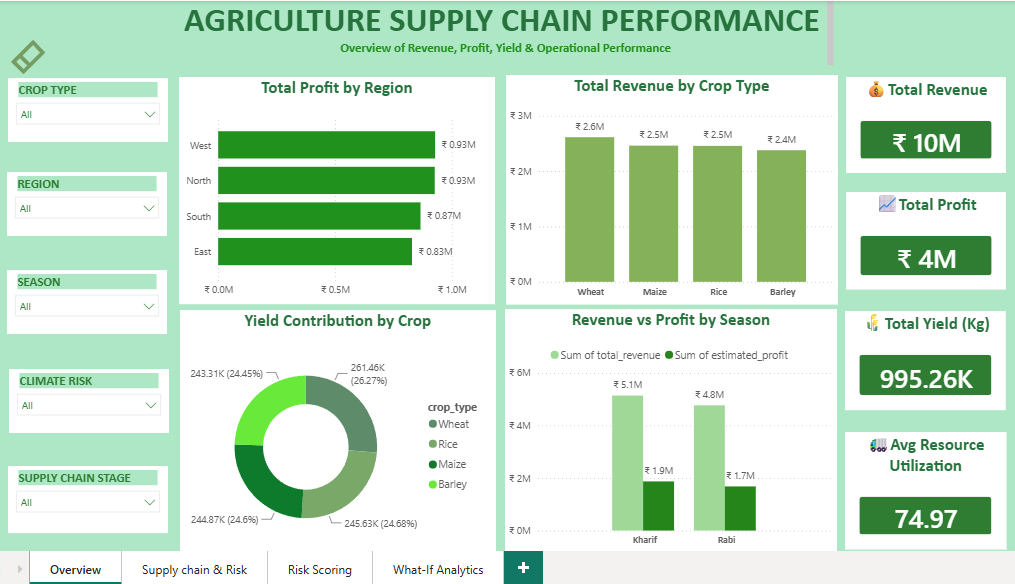

This screenshot's page, from the dashboard's own definition file:
{"tool":"powerbi","page":{"name":"Overview","canvas":[1280,720],"ordinal":0},"visuals":[{"type":"cardVisual","title":"💰Total Revenue","fields":{"Data":["Sum(agri_supplychain_cleaned.total_revenue)"]},"box":[1064.2,103.7,200,120],"z":0},{"type":"cardVisual","title":"📈Total Profit","fields":{"Data":["Sum(agri_supplychain_cleaned.estimated_profit)"]},"box":[1064.2,247.7,200.2,122.4],"z":1000},{"type":"slicer","fields":{"Values":["agri_supplychain_cleaned.crop_type"]},"box":[16.5,104.6,200,80],"z":2000},{"type":"slicer","fields":{"Values":["agri_supplychain_cleaned.region"]},"box":[15.1,223,200,80],"z":3000},{"type":"slicer","fields":{"Values":["agri_supplychain_cleaned.season"]},"box":[14.7,344.5,200,80],"z":4000},{"type":"slicer","fields":{"Values":["agri_supplychain_cleaned.climate_risk_level"]},"box":[17,468.7,200,80],"z":5000},{"type":"cardVisual","title":"🌾Total Yield (Kg)","fields":{"Data":["Sum(agri_supplychain_cleaned.yield_quantity_kg)"]},"box":[1062.5,396.2,201.2,123.8],"z":6000},{"type":"clusteredColumnChart","title":"Total Revenue by Crop Type","fields":{"Category":["agri_supplychain_cleaned.crop_type"],"Y":["Sum(agri_supplychain_cleaned.total_revenue)"]},"box":[638.8,100.8,414.7,286.6],"z":7000},{"type":"clusteredBarChart","title":"Total Profit by Region","fields":{"Category":["agri_supplychain_cleaned.region"],"Y":["Sum(agri_supplychain_cleaned.estimated_profit)"]},"box":[230.4,103.4,395,283.5],"z":8000},{"type":"cardVisual","title":"🚛Avg Resource Utilization","fields":{"Data":["Avg(agri_supplychain_cleaned.resource_utilization)"]},"box":[1063,547.2,201.6,146.6],"z":10000},{"type":"slicer","fields":{"Values":["agri_supplychain_cleaned.supply_chain_stage"]},"box":[15.7,590.4,199.6,84],"z":11000},{"type":"donutChart","title":"Yield Contribution by Crop","fields":{"Category":["agri_supplychain_cleaned.crop_type"],"Y":["Sum(agri_supplychain_cleaned.yield_quantity_kg)"]},"box":[231.8,394.6,394.6,305.3],"z":12000},{"type":"clusteredColumnChart","title":"Revenue vs Profit by Season","fields":{"Category":["agri_supplychain_cleaned.season"],"Y":["Sum(agri_supplychain_cleaned.total_revenue)","Sum(agri_supplychain_cleaned.estimated_profit)"]},"box":[637.5,394,414.7,305.3],"z":13000},{"type":"textbox","box":[231.7,0,822.1,95.6],"z":14000},{"type":"actionButton","box":[16.3,53.9,57.1,50.6],"z":15000}]}

Visuals, with their boxes on the page's 1280x720 design canvas (x1, y1, x2, y2). These are canvas units, not pixel positions in the 1015x584 screenshot, which may show the page scaled, cropped or inside an application window:
"💰Total Revenue" cardVisual: [1064,104,1264,224]
"📈Total Profit" cardVisual: [1064,248,1264,370]
slicer - agri_supplychain_cleaned.crop_type: [16,105,216,185]
slicer - agri_supplychain_cleaned.region: [15,223,215,303]
slicer - agri_supplychain_cleaned.season: [15,344,215,424]
slicer - agri_supplychain_cleaned.climate_risk_level: [17,469,217,549]
"🌾Total Yield (Kg)" cardVisual: [1062,396,1264,520]
"Total Revenue by Crop Type" clusteredColumnChart: [639,101,1054,387]
"Total Profit by Region" clusteredBarChart: [230,103,625,387]
"🚛Avg Resource Utilization" cardVisual: [1063,547,1265,694]
slicer - agri_supplychain_cleaned.supply_chain_stage: [16,590,215,674]
"Yield Contribution by Crop" donutChart: [232,395,626,700]
"Revenue vs Profit by Season" clusteredColumnChart: [638,394,1052,699]
textbox: [232,0,1054,96]
actionButton: [16,54,73,104]
